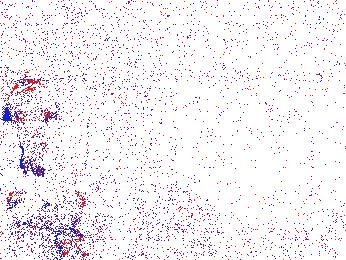flame jellyfish: (5, 82, 59, 176), (30, 202, 84, 260), (6, 188, 48, 240)
